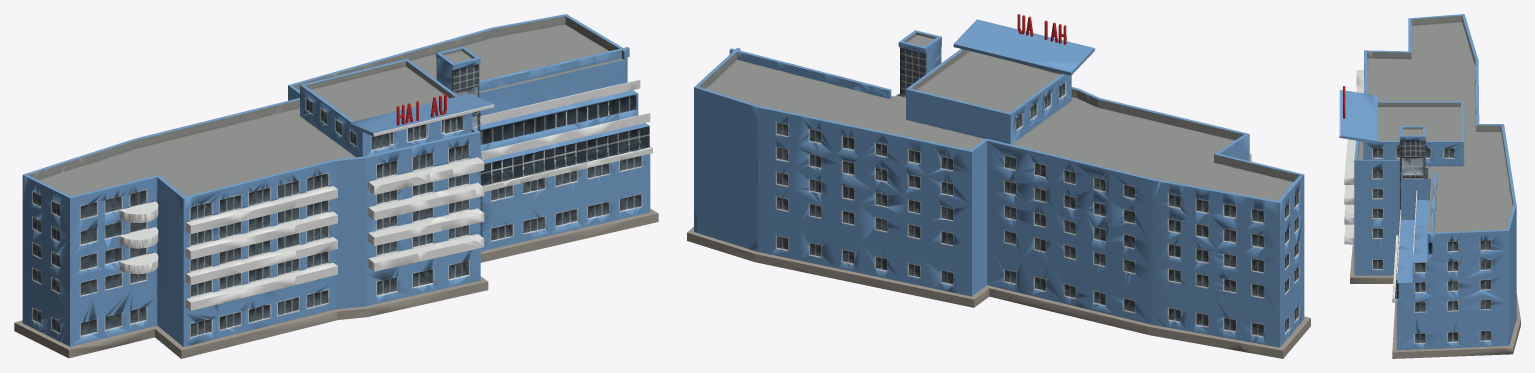
File: khach_san_hai_au.glb
3 renders of one model, left to right at view 1: azimuth 30°, elevation 25°; view 2: azimuth 150°, elevation 25°; view 3: azimuth 270°, elevation 25°, orthographic. The views are drawn at different scales.
Visible parts, largest first — view 1: khach_san_hai_au; view 2: khach_san_hai_au; view 3: khach_san_hai_au.
Part boxes in pixels (<box>): khach_san_hai_au: <box>14,14,658,358</box>; khach_san_hai_au: <box>687,14,1310,358</box>; khach_san_hai_au: <box>1339,14,1520,358</box>.
Size of the model in its own units: 73.06 by 24.59 by 24.9.
Materials: 3 (3 with a texture image).
